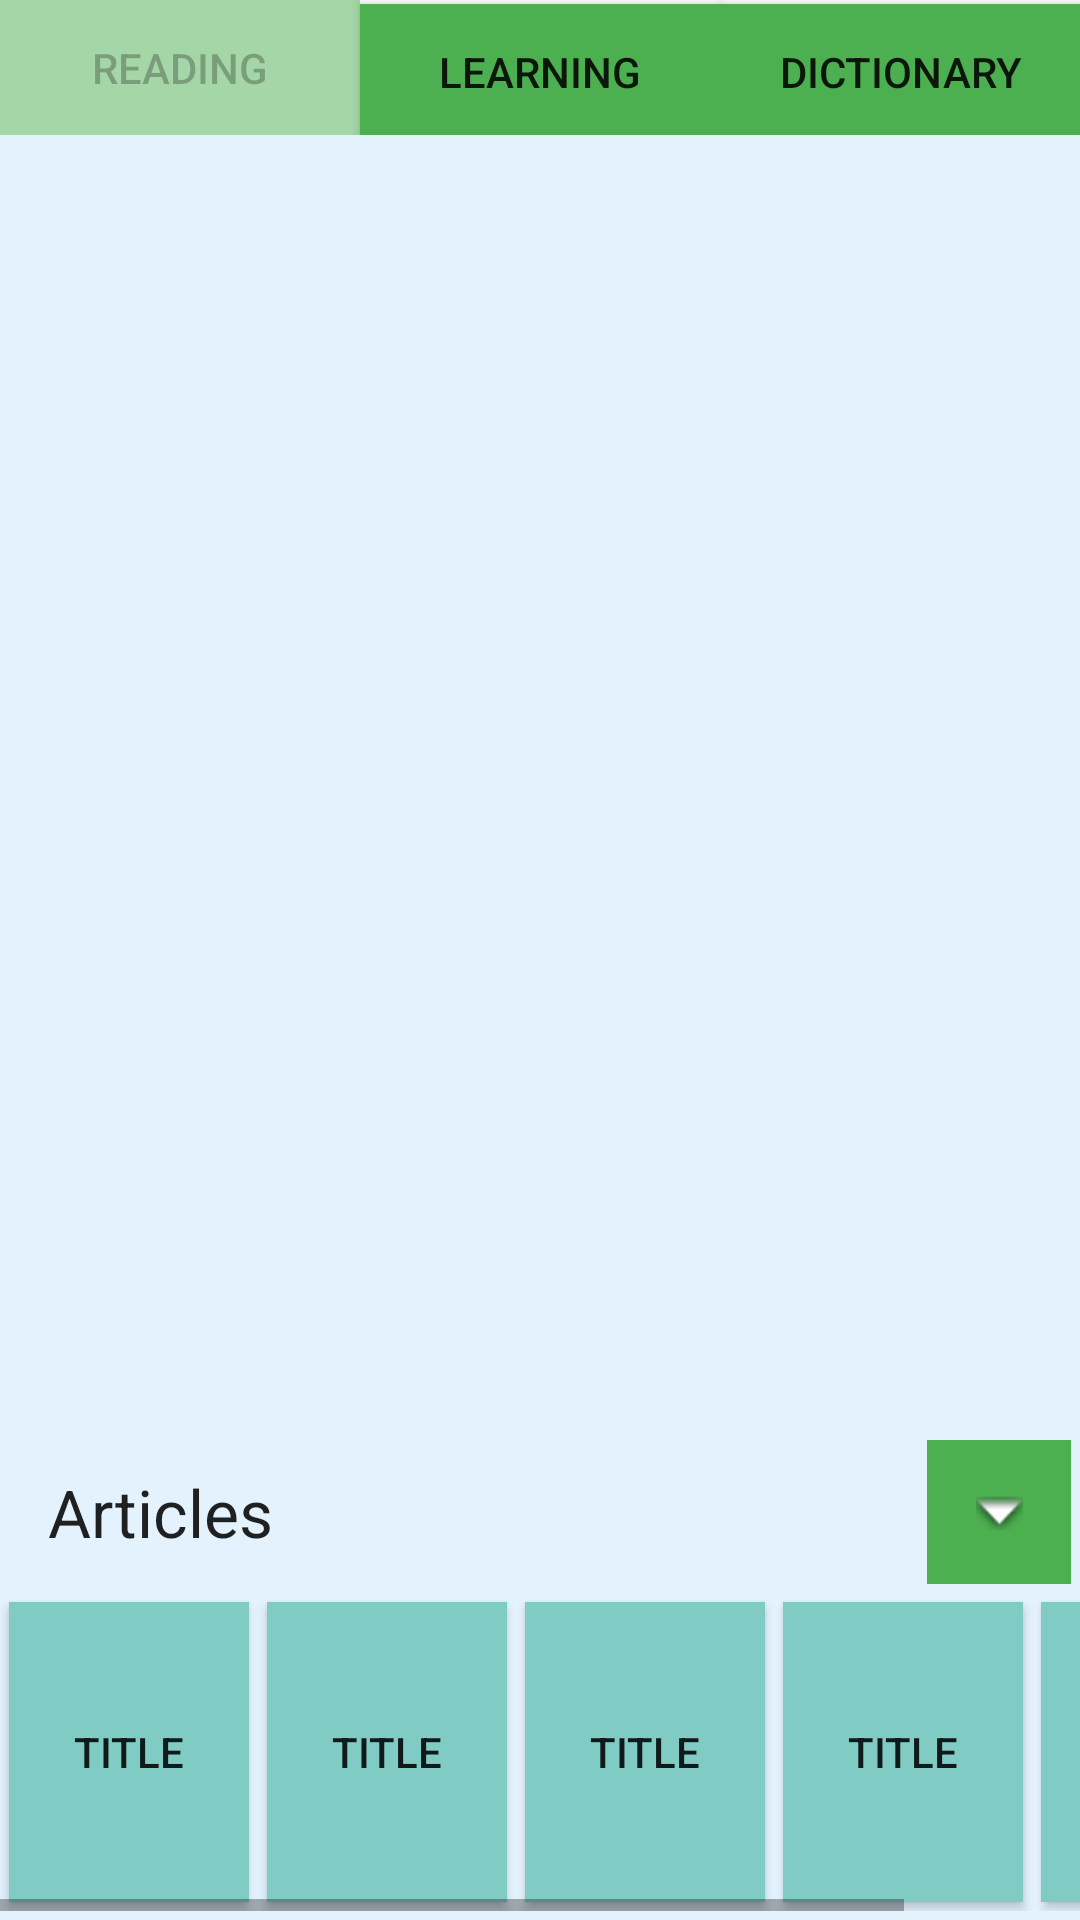

Named icons in this screenshot (1080x1920) and their bounding boxes, (x1,y1,x2,y2):
arrow down float: (927,1440,1071,1584)
